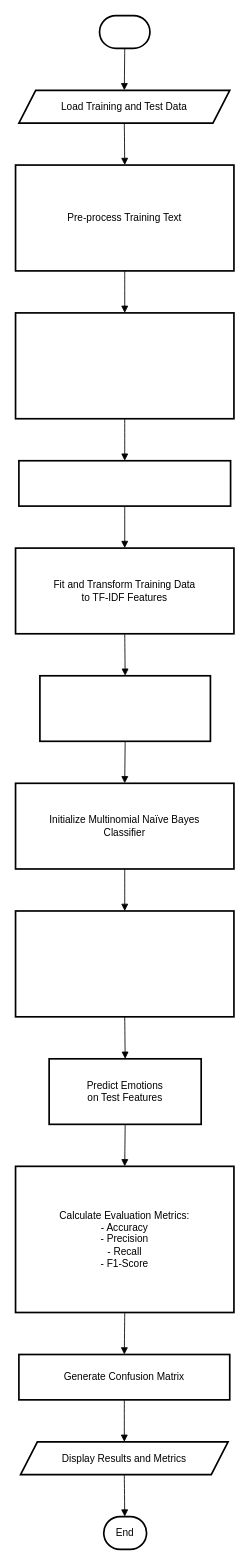
Some shapes in this 249 by 1564 pixel diagram are drawn without their labels. The centre of each missing label's shape, as x and y in pixels:
Initialize TF-IDF Vectorizer: the point at 124,483
Pre-process Test Text: the point at 124,365
Start: the point at 124,31
Train Multinomial Naïve Bayes on Training Features and Labels: the point at 124,963
Transform Test Data to TF-IDF Features: the point at 125,708
